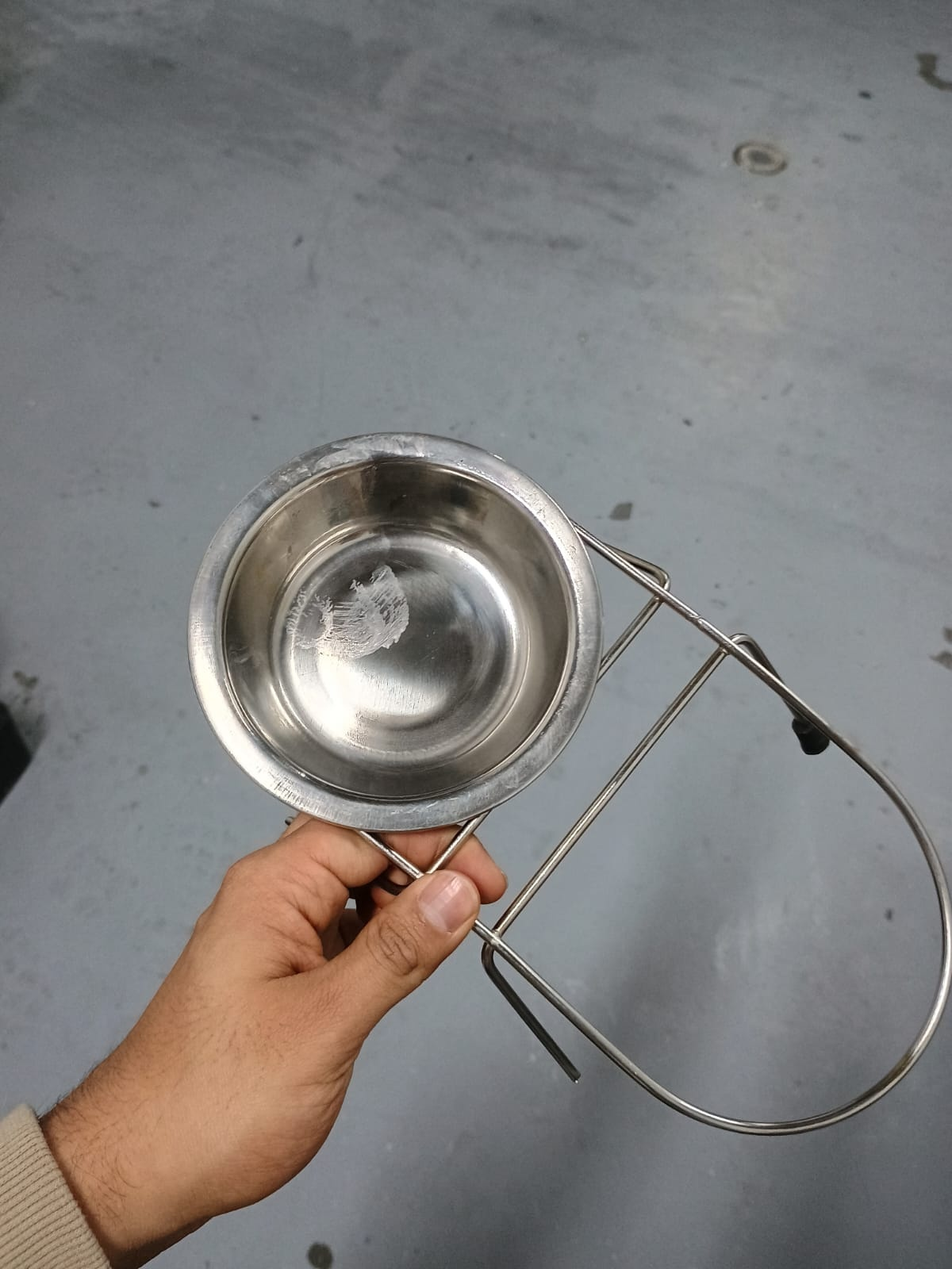Metal: (186, 435, 952, 1138)
